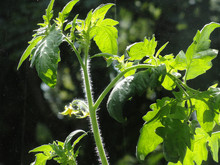tomato: (23, 3, 203, 148)
